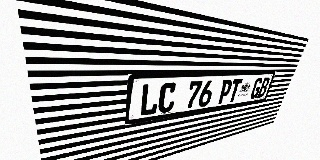6: (197, 80, 215, 107)
7: (184, 81, 203, 110)
B: (257, 77, 271, 98)
C: (157, 82, 178, 114)
G: (249, 78, 264, 99)
L: (139, 83, 160, 117)
P: (217, 79, 233, 104)
T: (227, 79, 243, 103)
